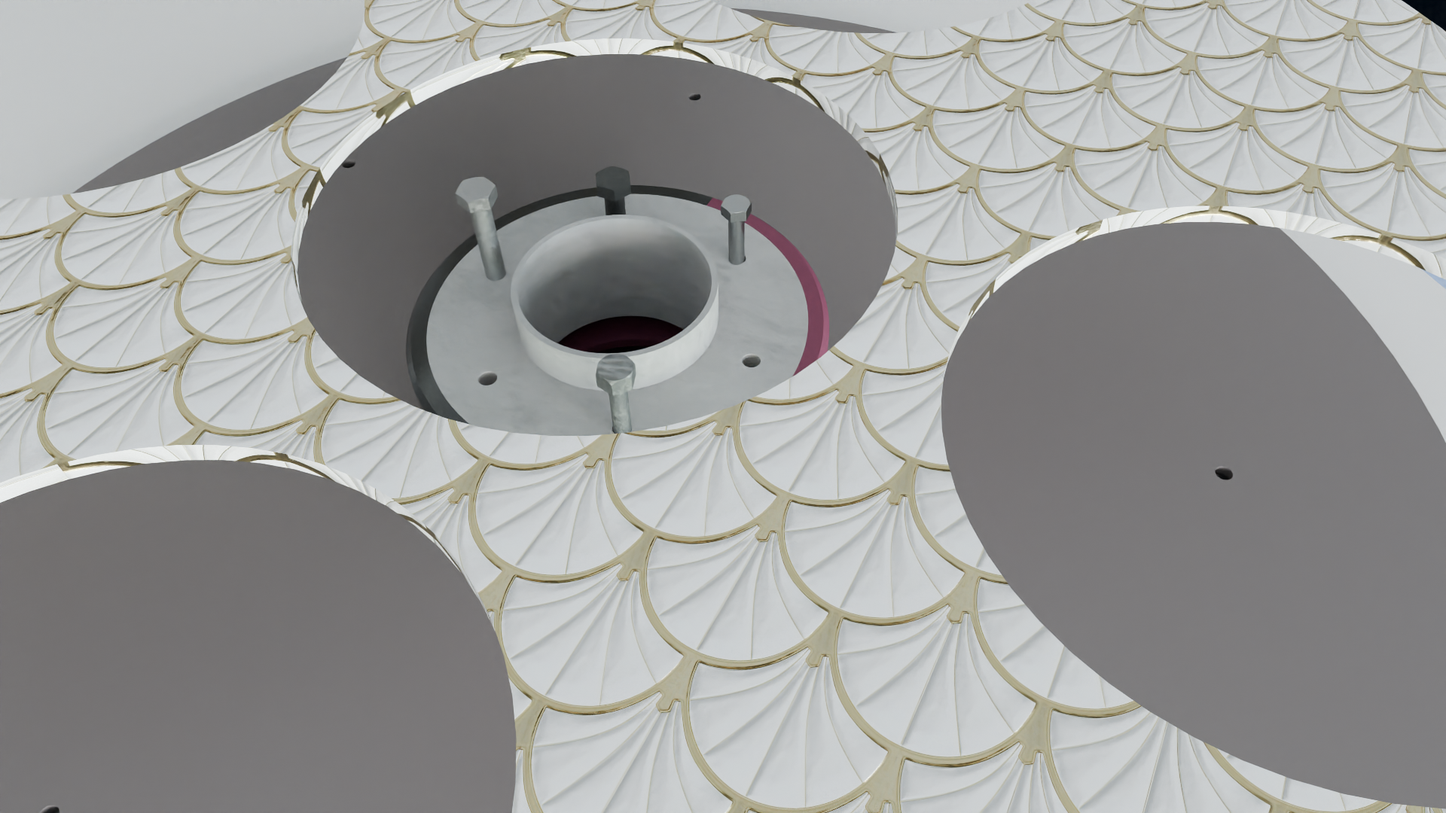bolt: (596, 354, 635, 385), (455, 177, 496, 202), (596, 166, 630, 191), (721, 194, 752, 215)
